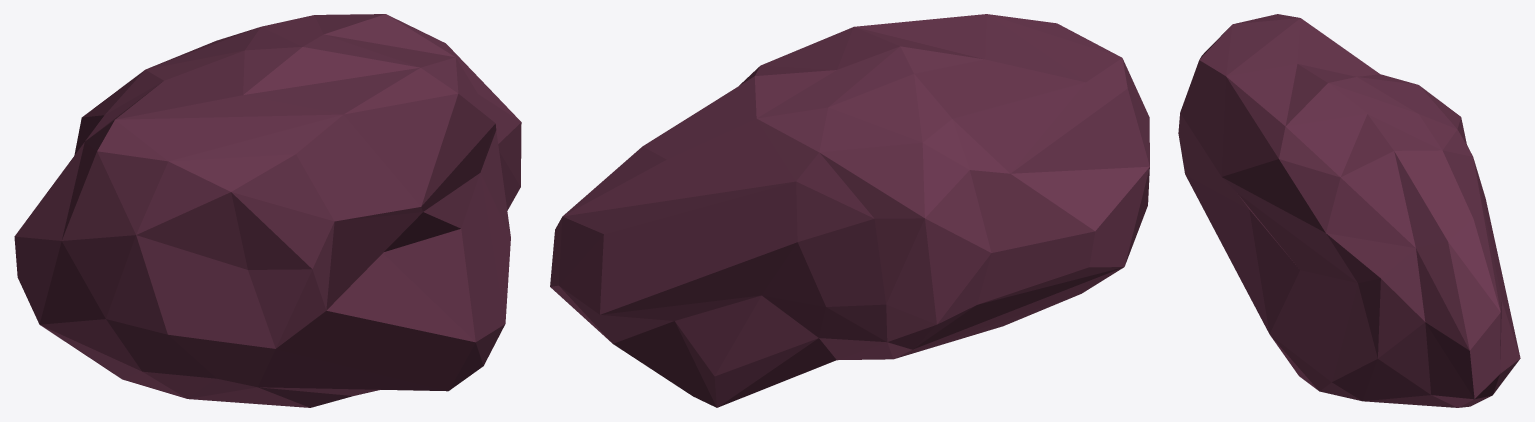
Rendered from asteroid1.fbx.
3 views of the same model, side by side, from view 1: azimuth 30°, elevation 25°; view 2: azimuth 150°, elevation 25°; view 3: azimuth 270°, elevation 25° (orthographic). The views are drawn at different scales.
Parts seen in each view (by area): view 1: Asteroid1; view 2: Asteroid1; view 3: Asteroid1.
Boxes of the visible parts, x1,y1,x2,y2 form: Asteroid1: (14,14,521,407); Asteroid1: (550,14,1149,407); Asteroid1: (1178,14,1520,407).
Size of the model in its own units: 335 by 210 by 239.
